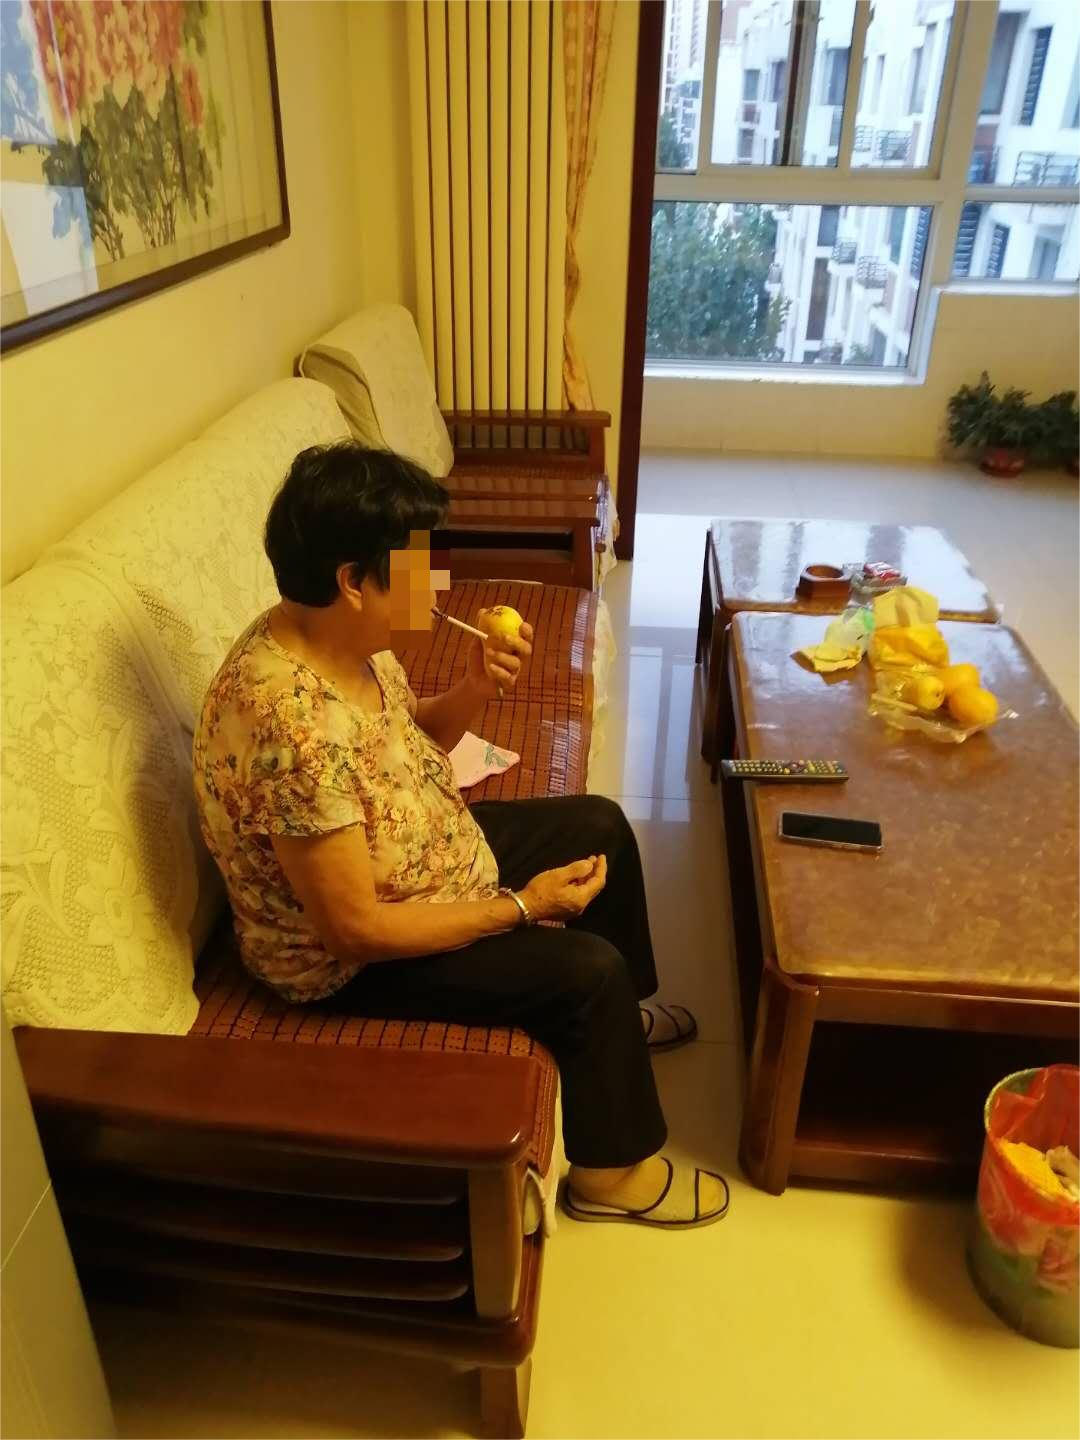smoke: (432, 615, 489, 645)
